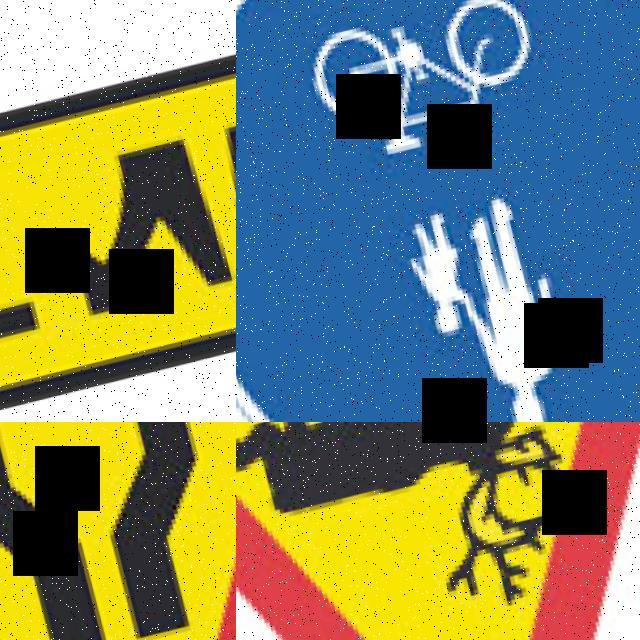125: (0, 29, 236, 422)
131: (0, 422, 236, 640)
91: (236, 0, 640, 422)
warning wild animal: (236, 422, 640, 640)
